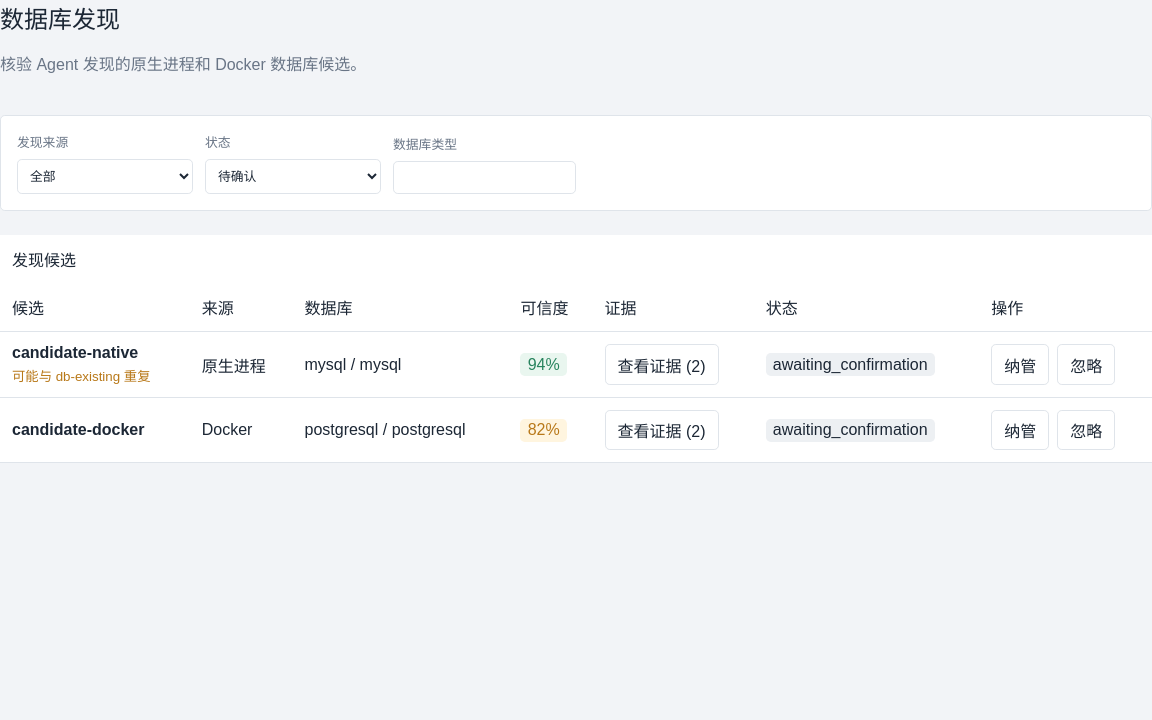
Test: Discovery candidate workflows › filters native and Docker candidates and shows bounded evidence plus duplicate risk
expect the text "candidate-native" is shown: met, box x1=12 y1=344 x2=138 y2=361
expect the text "candidate-docker" is shown: met, box x1=12 y1=421 x2=144 y2=438
Select "Docker" in the dropdown labelled "发现来源" at (105,176), box x1=17 y1=159 x2=193 y2=194
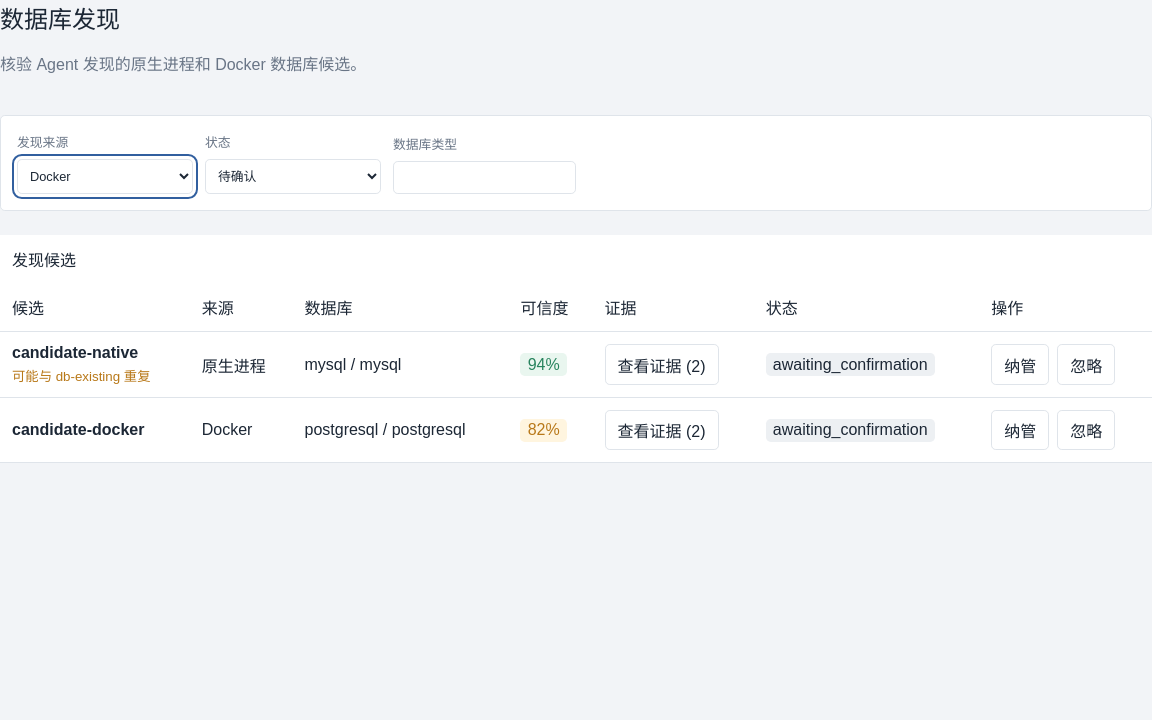
Click the button named "查看 candidate-native 证据".
click(662, 364)  # box x1=604 y1=344 x2=718 y2=385
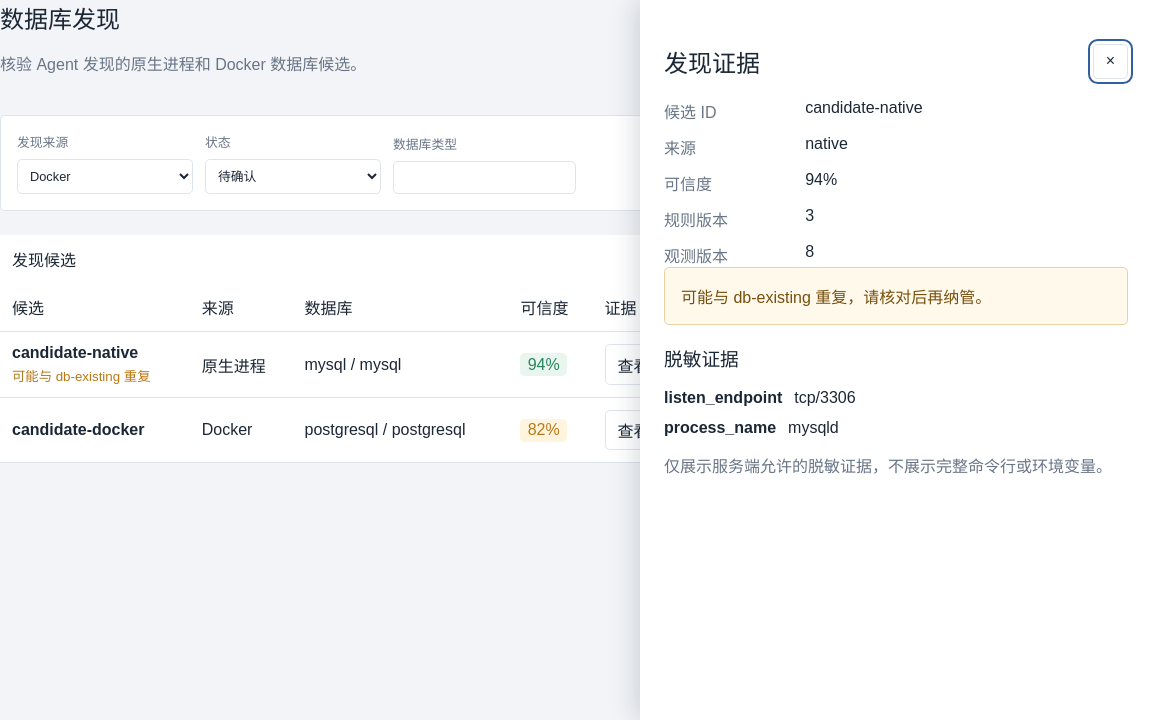
expect the dialog "发现证据" shows "tcp/3306": met, box x1=794 y1=389 x2=856 y2=406
expect the text "可能与 db-existing 重复，请核对后再纳管。" is shown: met, box x1=664 y1=267 x2=1128 y2=325
